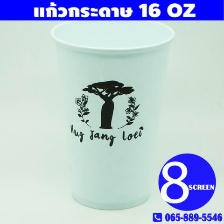paper_cup: (44, 15, 178, 214)
